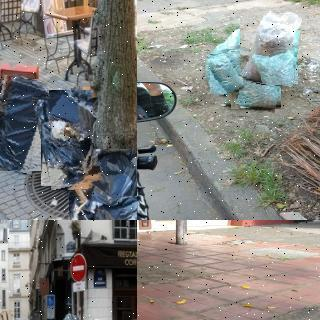Garbage: (37, 88, 98, 188), (67, 147, 137, 220), (238, 11, 301, 86), (0, 77, 45, 172), (229, 49, 284, 111), (209, 53, 244, 95)
